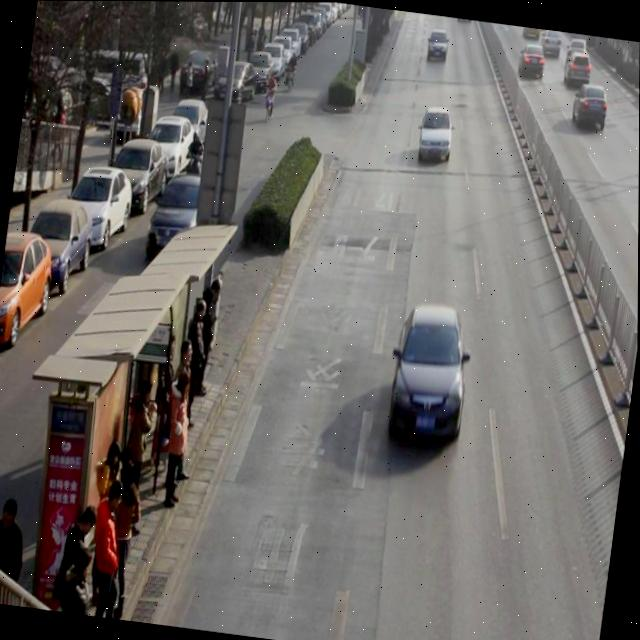car: (386, 299, 477, 450), (144, 169, 219, 269), (415, 104, 456, 166), (570, 81, 610, 131), (516, 40, 548, 83), (561, 48, 594, 89), (425, 27, 450, 65), (537, 28, 561, 58), (522, 26, 540, 42), (567, 37, 586, 52), (456, 17, 471, 24)
